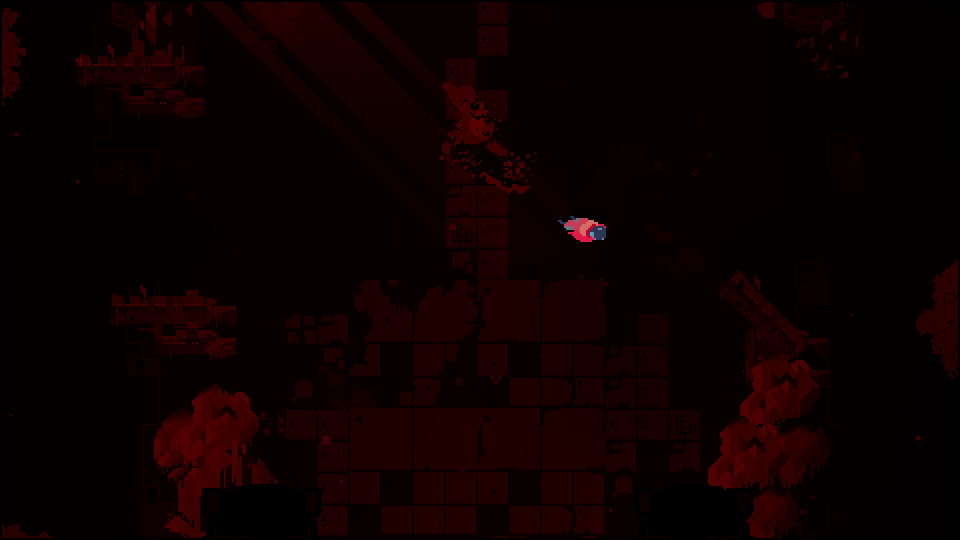player: (559, 216, 610, 244)
